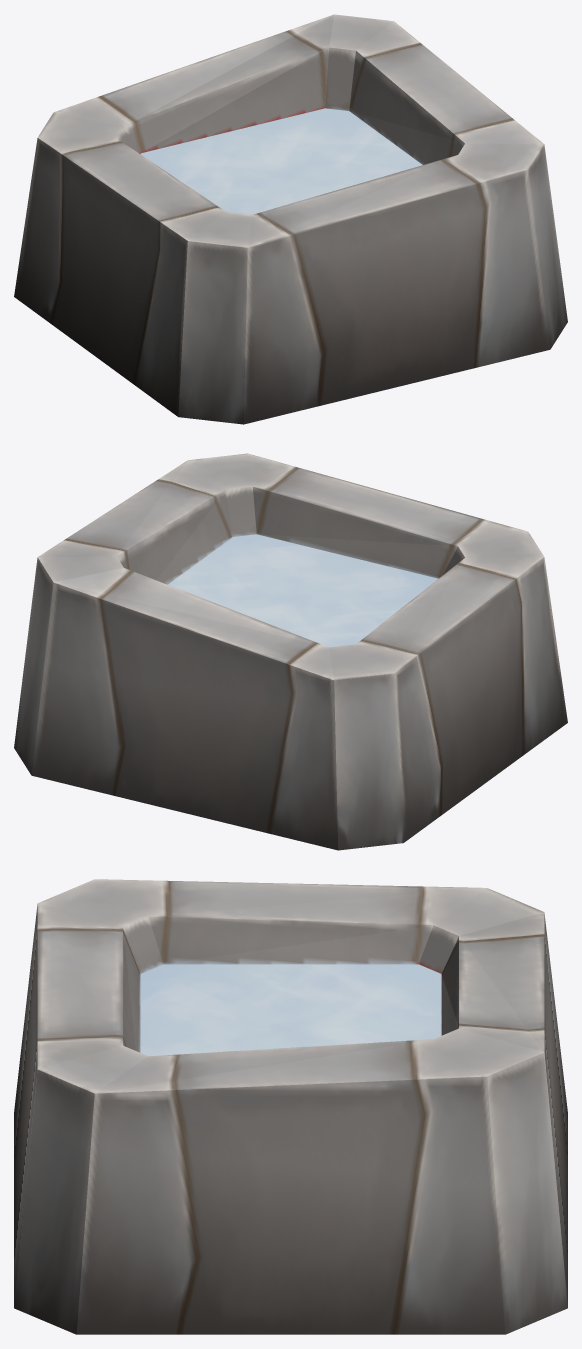
Rendered from Dwarf_Village_Props_05.FBX.
The picture shows the model from 3 angles, top to bottom: view 1: azimuth 30°, elevation 25°; view 2: azimuth 150°, elevation 25°; view 3: azimuth 270°, elevation 25°; orthographic projection. The views are drawn at different scales.
Parts seen in each view (by area): view 1: Dwarf_Village_Props_05; view 2: Dwarf_Village_Props_05; view 3: Dwarf_Village_Props_05.
Boxes of the visible parts, bbox=[...] form: Dwarf_Village_Props_05: bbox=[14, 14, 567, 424]; Dwarf_Village_Props_05: bbox=[14, 453, 567, 850]; Dwarf_Village_Props_05: bbox=[14, 879, 567, 1334].
Size of the model in its own units: 217 by 101 by 204.
